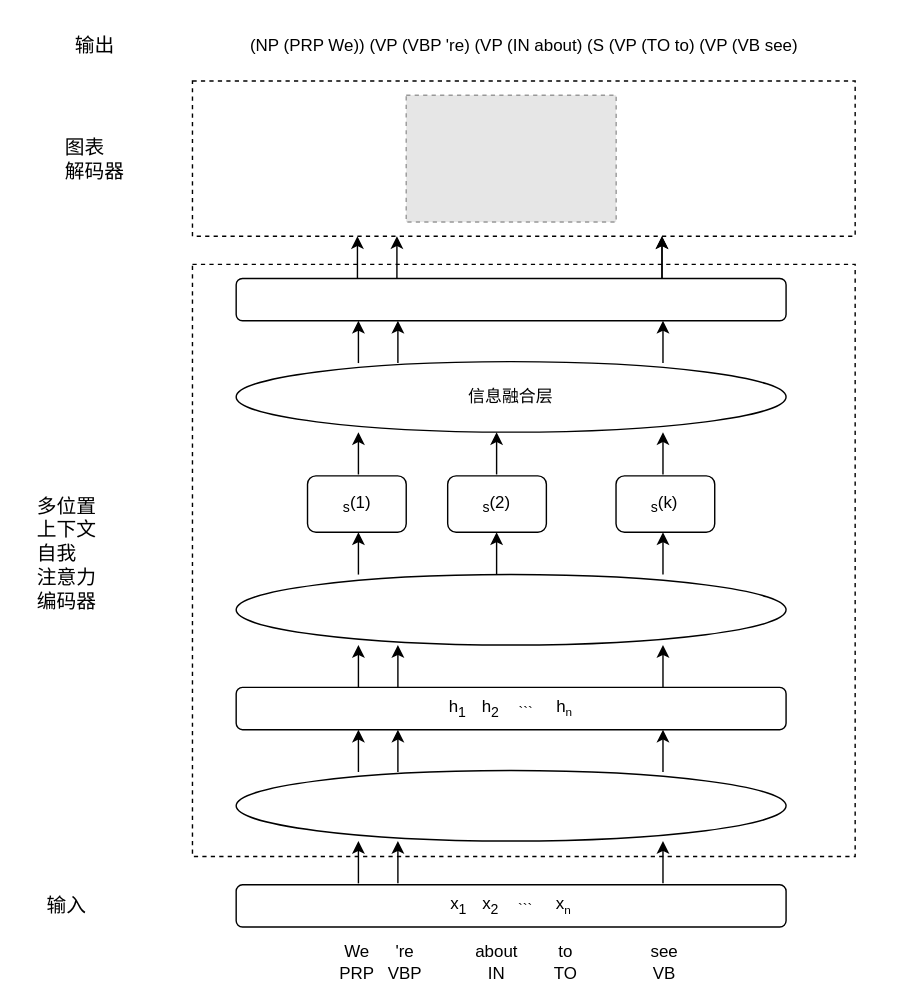
This 922x1007 diagram has some shape labels left out. Grey dashed boxes stand in for pictures. Each missing label, with the box of its shape:
y 1 y 2 ``` y n: (235, 277, 786, 321)
上下文自我注意力层: (235, 573, 786, 645)
全连接层: (235, 769, 786, 841)
